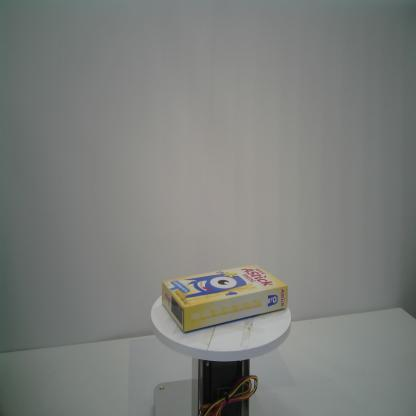Dessert: (160, 262, 289, 334)
